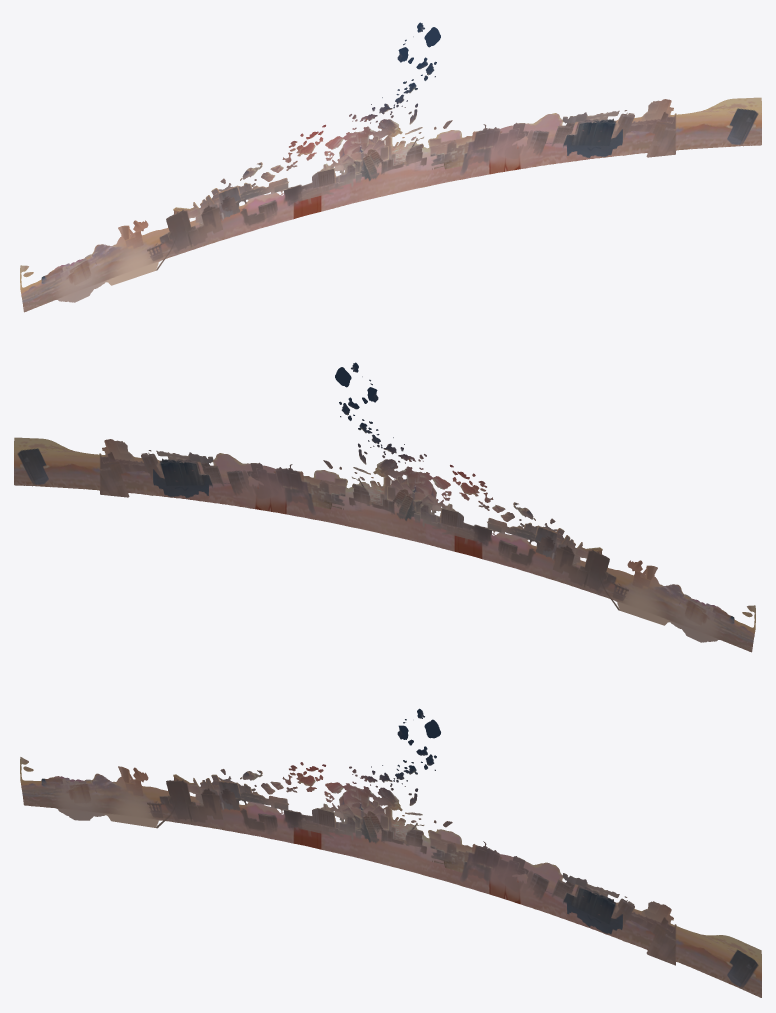
Rendered from SceneBattle03_BG01_fbx.FBX.
The picture shows the model from 3 angles, top to bottom: view 1: azimuth 30°, elevation 25°; view 2: azimuth 150°, elevation 25°; view 3: azimuth 330°, elevation 25°; orthographic projection.
Visible parts, largest first — view 1: SceneBattle03_BG01_fbx; view 2: SceneBattle03_BG01_fbx; view 3: SceneBattle03_BG01_fbx.
Boxes of the visible parts, x1,y1,x2,y2 form: SceneBattle03_BG01_fbx: [20, 22, 761, 312]; SceneBattle03_BG01_fbx: [14, 362, 755, 652]; SceneBattle03_BG01_fbx: [20, 708, 761, 997].
Bounding box in the file's own units: 17.66 × 4.74 × 3.86e-06.
1 material, 1 textured.
